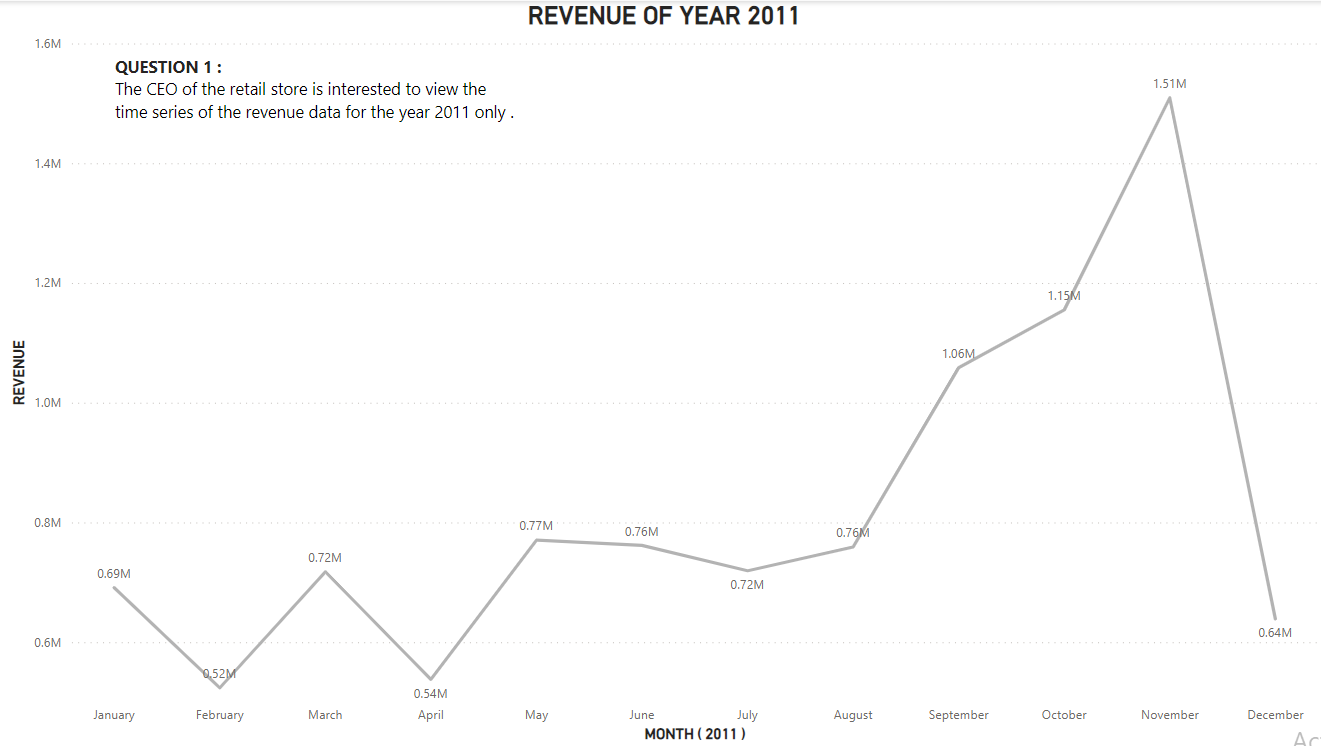

The dashboard page shown, as its layout file describes it:
{"tool":"powerbi","page":{"name":"Qn 1","canvas":[1280,720],"ordinal":0},"visuals":[{"type":"lineChart","title":"REVENUE OF YEAR 2011","fields":{"Y":["Sum(Online Retail.Revenue)"],"Category":["Online Retail.InvoiceDate.Variation.Date Hierarchy.Month"]},"box":[9.6,0,1270.7,720.4],"z":0},{"type":"textbox","box":[109.8,46.7,395.2,102.9],"z":1}]}

Visuals, with their boxes in screenshot pixels (x1, y1, x2, y2), scaled from the page's 1280x720 canvas onto the 1321x746 screenshot:
"REVENUE OF YEAR 2011" lineChart: 10:0:1320:745
textbox: 113:48:521:155
